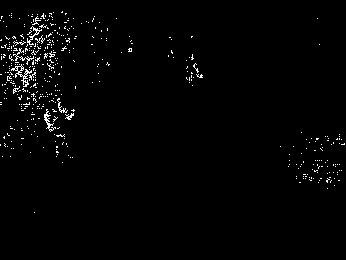person: (42, 92, 76, 160)
